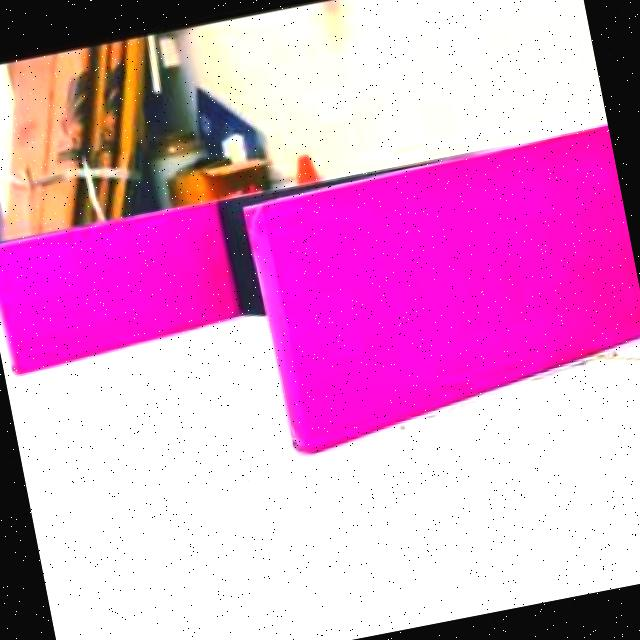xparking: (241, 131, 640, 426), (0, 200, 239, 371)
